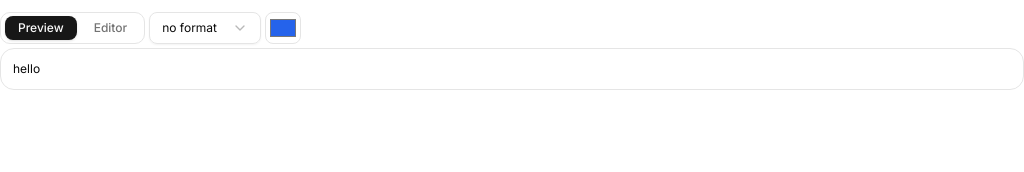
TextEditorWithToolbar — showPreview={false} Save regression › shows second-row helpers (undo/redo/wch/tab) only in Editor mode
The image size is (1024, 172).
Expected: the button "tab" is not shown
Expected: the text "wch" is not shown
Step 1. Click the tab "Editor" → (110, 28), box [81, 16, 140, 40]
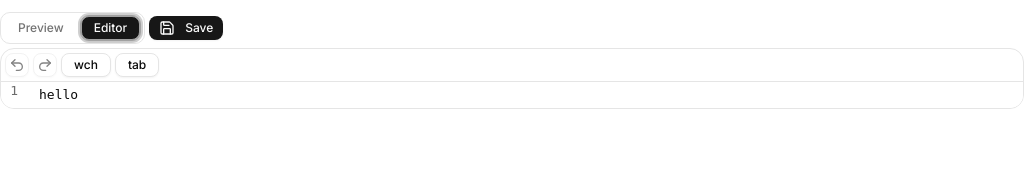
Expected: the button "tab" is shown, [115, 53, 159, 77]
Expected: the button "wch" is shown, [61, 53, 111, 77]
Expected: the button named "undo" is shown, [5, 53, 29, 77]
